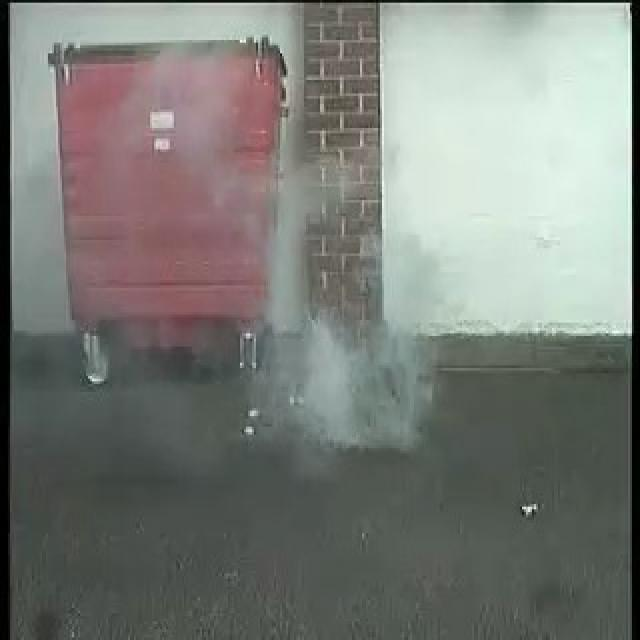smoke: (259, 172, 426, 454)
